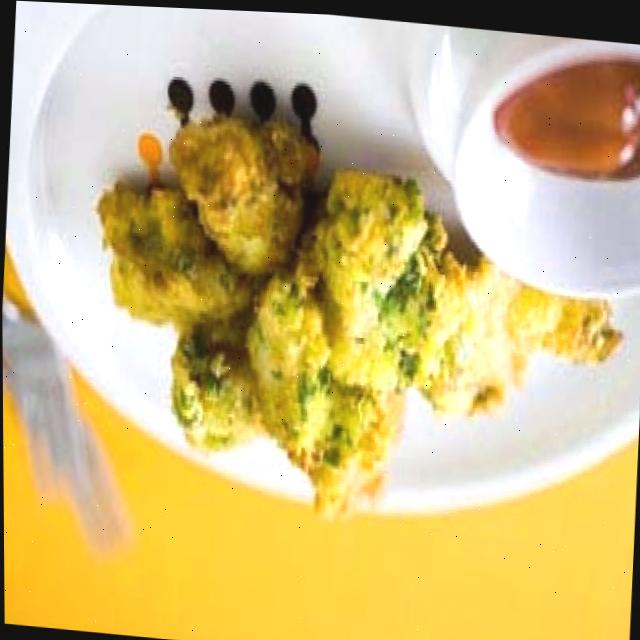鸡肉料理 含炸鸡: (71, 58, 625, 559)
